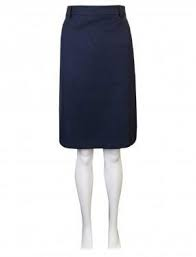F_tailored skirt: (54, 4, 142, 153)
